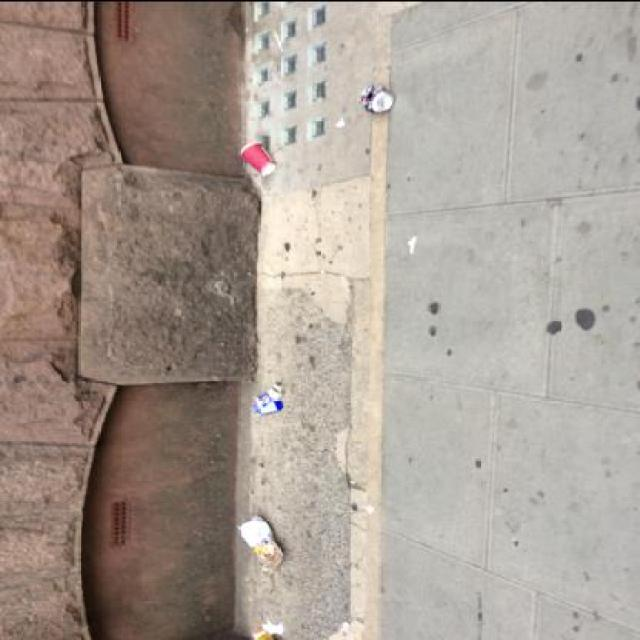cardboard: (239, 140, 276, 174), (252, 380, 282, 414)
metal: (360, 83, 395, 111)
paper: (234, 512, 284, 570)
